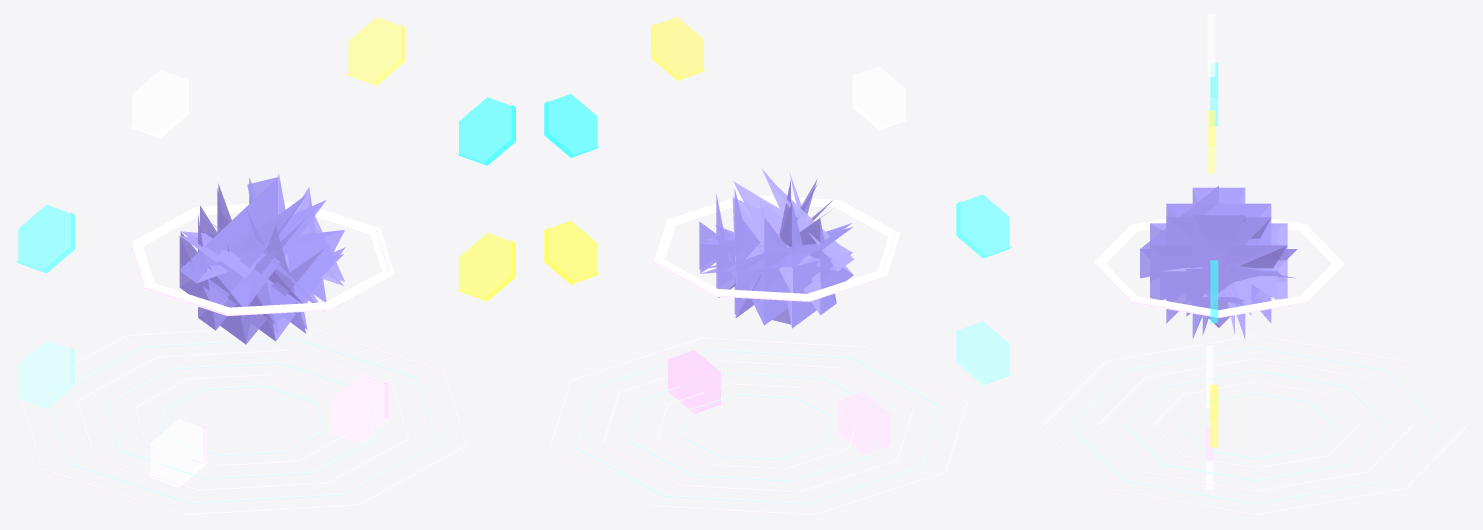
The model's file is ai-intelligence-core.glb.
3 renders of one model, left to right at view 1: azimuth 30°, elevation 25°; view 2: azimuth 150°, elevation 25°; view 3: azimuth 270°, elevation 25°, orthographic. The views are drawn at different scales.
Parts seen in each view (by area): view 1: CrystallineOrb, Code_Panel, Infinity_Panel, Brain_Panel, Microchip_Panel, Lightning_Panel, Growth_Panel, Gear_Panel, Layers_Panel, Ring_Chrome_Vertical, Ring_Equatorial_Violet, Platform_Ring_5 (+5 smaller); view 2: CrystallineOrb, Microchip_Panel, Layers_Panel, Lightning_Panel, Brain_Panel, Infinity_Panel, Code_Panel, Gear_Panel, Growth_Panel, Ring_Chrome_Vertical, Ring_Equatorial_Violet, Platform_Ring_5 (+5 smaller); view 3: CrystallineOrb, Ring_Equatorial_Violet, Platform_Ring_5, Ring_Chrome_Vertical, Platform_Ring_4, Platform_Ring_3, Platform_Ring_2, Platform_Ring_1, Platform_Ring_0, Layers_Panel, Infinity_Panel, Gear_Panel (+4 smaller).
Boxes of the visible parts, box(x1,y1,x2,y2) form: CrystallineOrb: box(179, 173, 345, 344); Code_Panel: box(147, 419, 207, 487); Infinity_Panel: box(456, 233, 515, 301); Brain_Panel: box(129, 70, 188, 138); Microchip_Panel: box(15, 205, 74, 273); Lightning_Panel: box(15, 340, 74, 408); Growth_Panel: box(329, 375, 388, 443); Gear_Panel: box(345, 17, 404, 85); Layers_Panel: box(456, 97, 515, 165); Ring_Chrome_Vertical: box(136, 203, 388, 310); Ring_Equatorial_Violet: box(130, 201, 394, 315); Platform_Ring_5: box(18, 325, 466, 515); CrystallineOrb: box(699, 168, 854, 328); Microchip_Panel: box(956, 194, 1012, 258); Layers_Panel: box(544, 94, 600, 157); Lightning_Panel: box(956, 321, 1012, 385); Brain_Panel: box(852, 66, 908, 130); Infinity_Panel: box(544, 221, 599, 284); Code_Panel: box(837, 391, 893, 455); Gear_Panel: box(651, 17, 706, 80); Growth_Panel: box(668, 350, 723, 413); Ring_Chrome_Vertical: box(658, 197, 894, 296); Ring_Equatorial_Violet: box(653, 195, 899, 301); Platform_Ring_5: box(548, 337, 967, 515); CrystallineOrb: box(1140, 185, 1297, 339); Ring_Equatorial_Violet: box(1093, 218, 1343, 317); Platform_Ring_5: box(1042, 335, 1468, 515); Ring_Chrome_Vertical: box(1099, 220, 1338, 312); Platform_Ring_4: box(1070, 346, 1440, 504); Platform_Ring_3: box(1097, 358, 1413, 492); Platform_Ring_2: box(1125, 369, 1385, 480); Platform_Ring_1: box(1152, 381, 1358, 469); Platform_Ring_0: box(1177, 392, 1333, 458); Layers_Panel: box(1210, 260, 1218, 323); Infinity_Panel: box(1210, 384, 1218, 447); Gear_Panel: box(1207, 110, 1215, 173).
Bounding box in the file's own units: 5.76 × 4.66 × 4.66.
